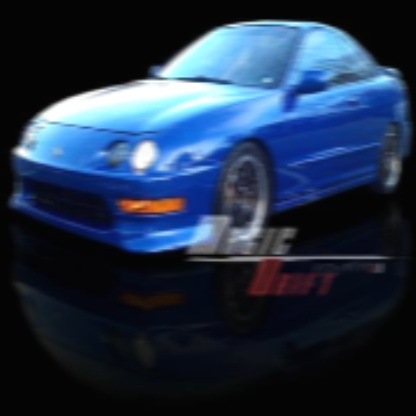Vehicle: (10, 19, 411, 256)
